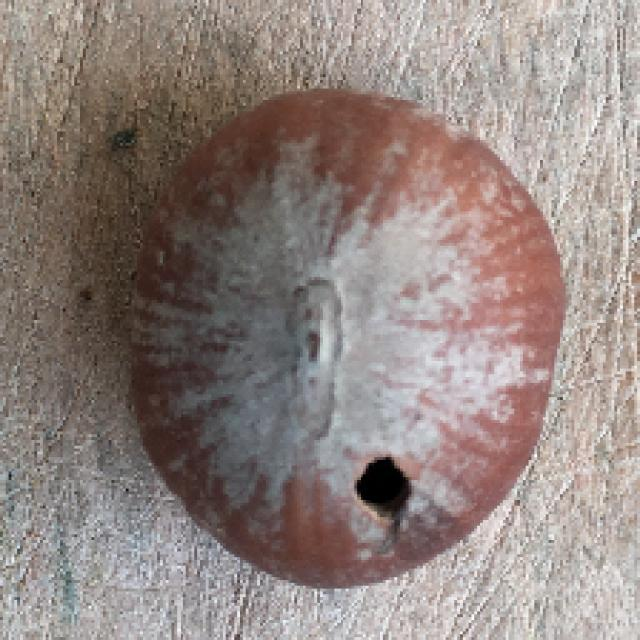damagedHazelnut: (119, 88, 570, 605)
